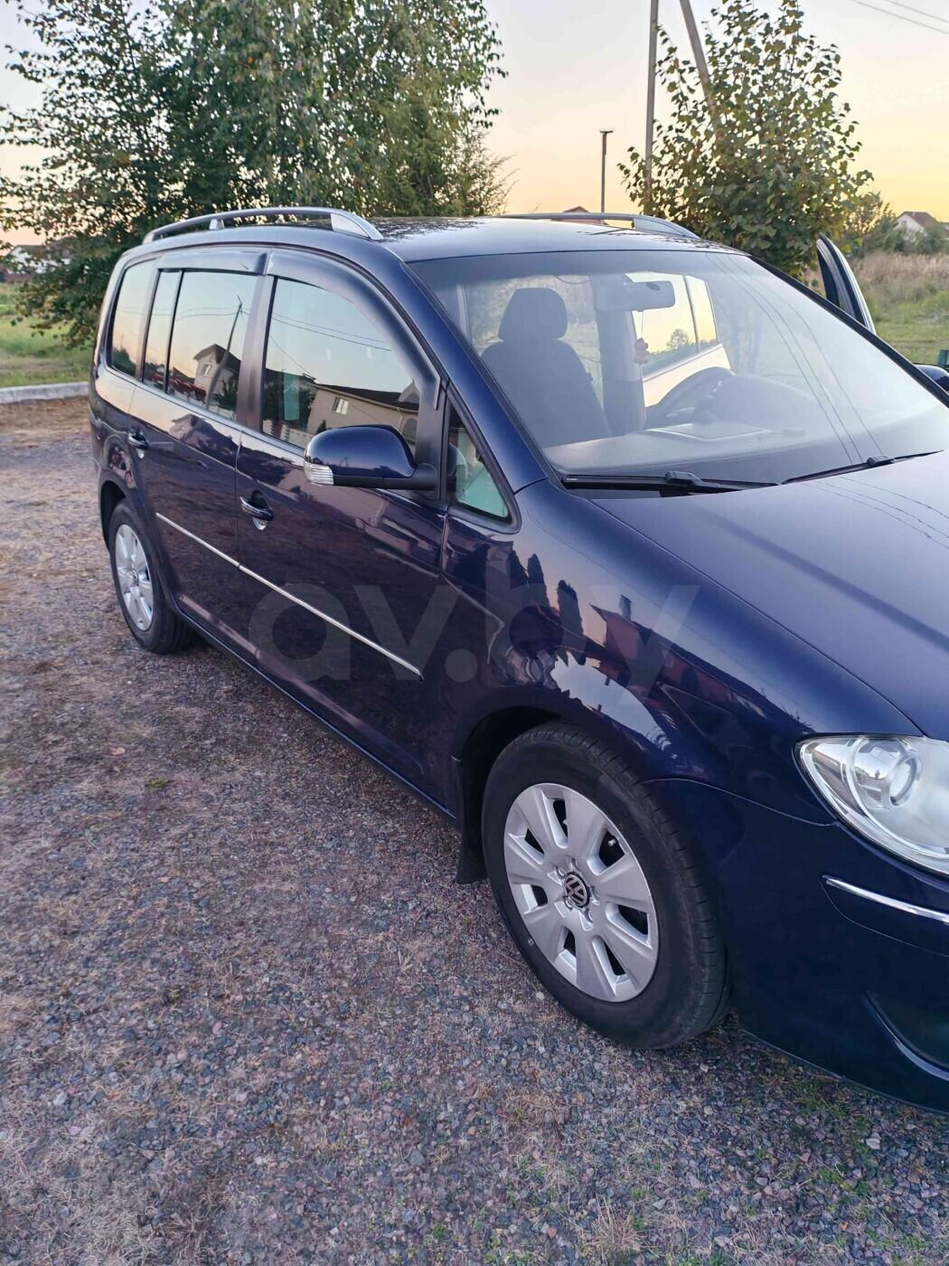Touran_2006-2010: (78, 203, 949, 1114)
